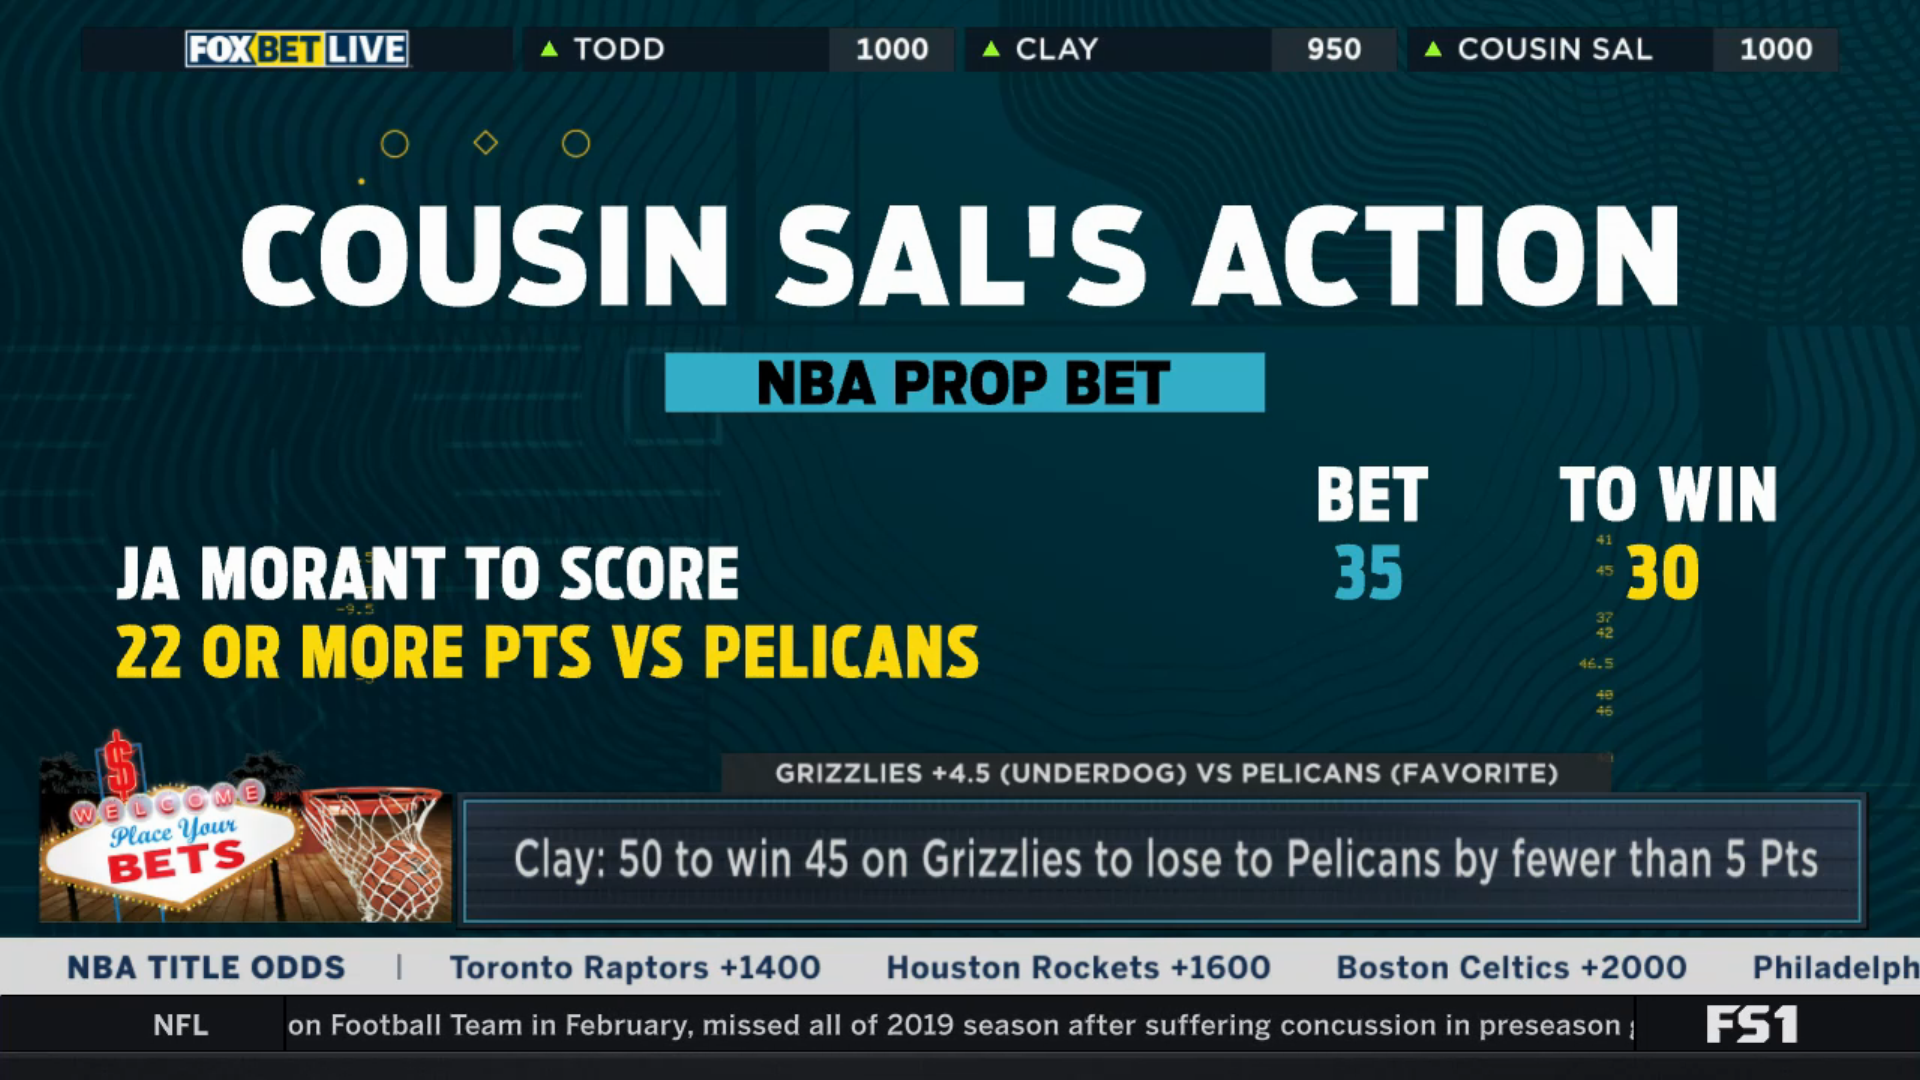Bet: (100, 531, 996, 691)
Bet Amount: (1304, 452, 1449, 617)
Subtitle: (655, 339, 1280, 419)
Title: (227, 189, 1702, 324)
To Win: (1545, 451, 1795, 618)
Top Bar: (73, 20, 1844, 80)
